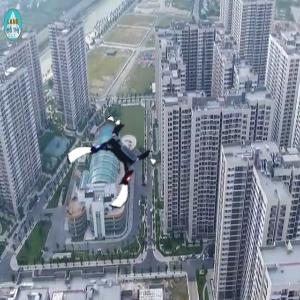drone: (75, 124, 155, 204)
